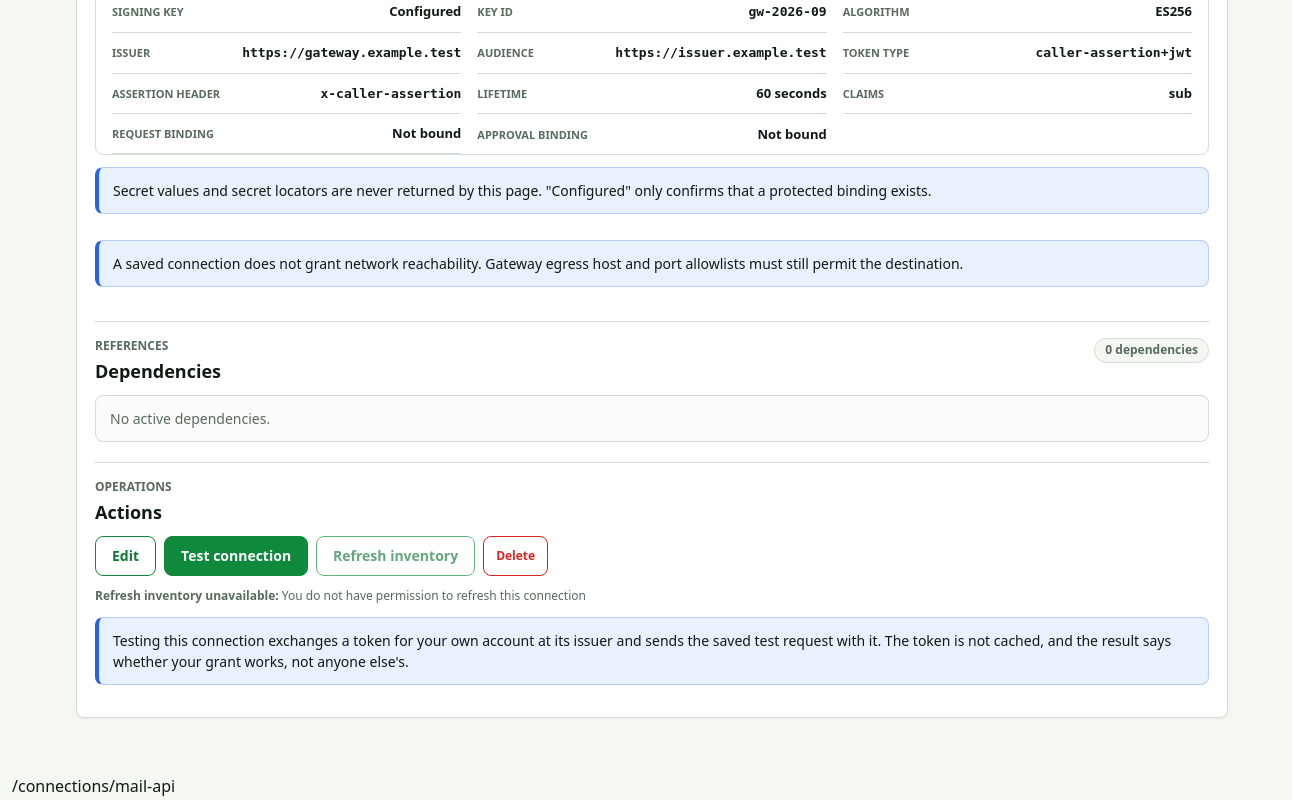
Test: ConnectionDetail › tests a delegated issuer token connection as the administrator and says why it was refused
(page scrolled)
Expected: the text "Testing this connection exchanges a token" is shown, [113,631,1171,671]
Click the button "Test connection". click: (236, 556)
box: [164,536,308,576]
(page scrolled)
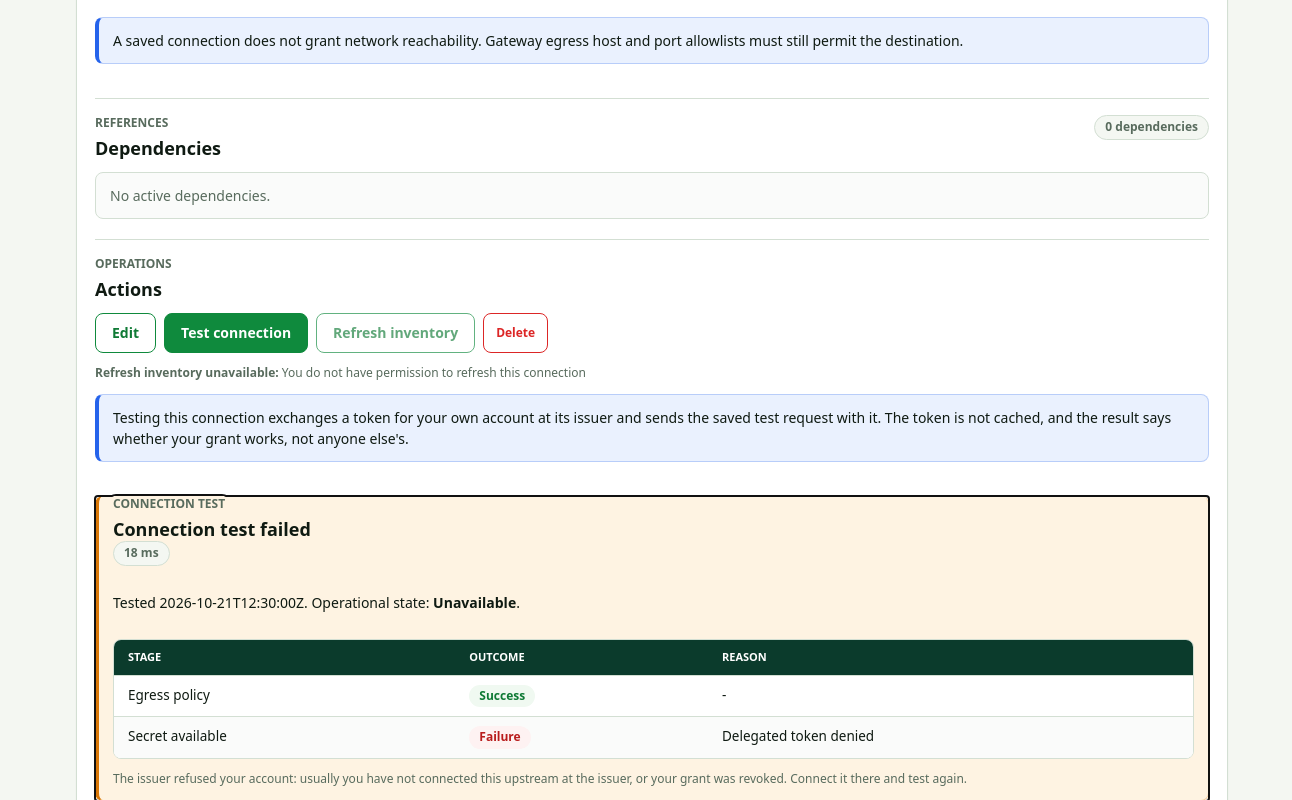
Now the heading "Connection test failed" is shown, box [113,517,311,541]
Now the text "Delegated token denied" is shown, box [708,717,1193,758]
Now the text "The issuer refused your account" is shown, box [113,770,967,787]
